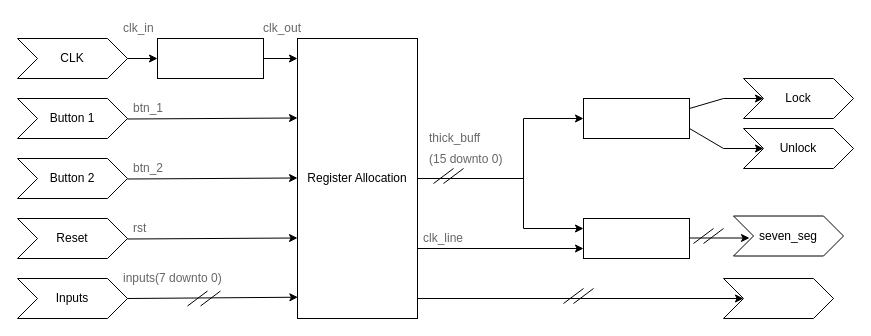
The diagram is 871 pixels wide and 336 high, and some of its shapes have lost their labels. Here are the shapes that lost their labels. From the top down, the box of each, then its label:
(156, 38, 264, 78): CLK Divider
(582, 98, 690, 138): Lock System
(582, 218, 690, 258): Seven Seg Decoder
(722, 278, 834, 318): Anodes
